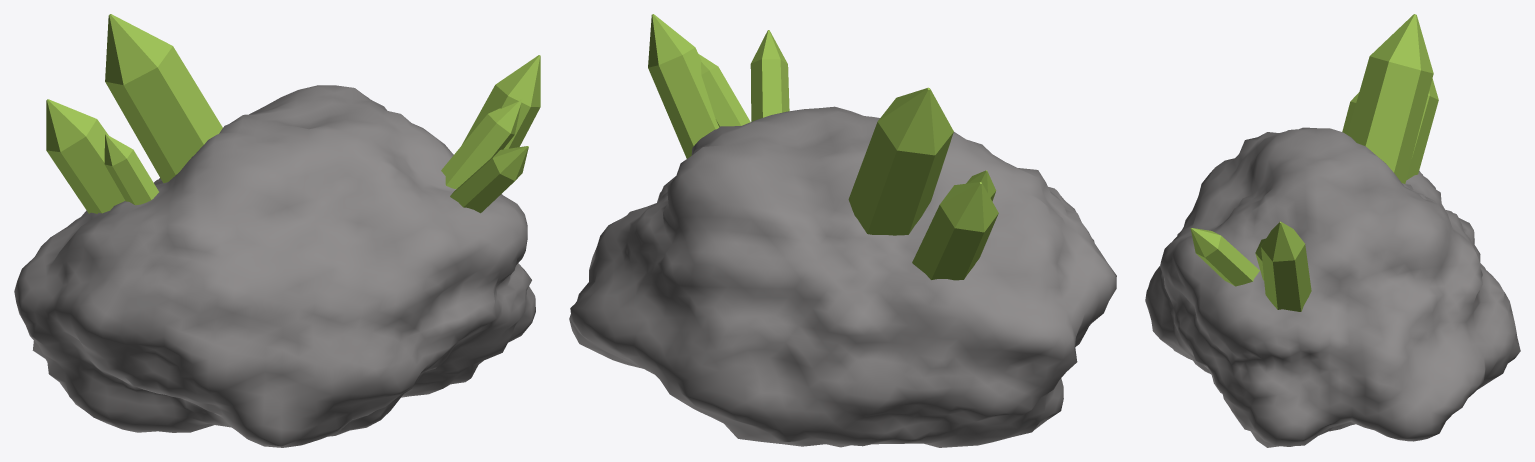
Rendered from olivine_surface.glb.
3 renders of one model, left to right at view 1: azimuth 30°, elevation 25°; view 2: azimuth 150°, elevation 25°; view 3: azimuth 270°, elevation 25°, orthographic. The views are drawn at different scales.
Parts seen in each view (by area): view 1: olivine_surface; view 2: olivine_surface; view 3: olivine_surface.
Boxes of the visible parts, x1,y1,x2,y2 form: olivine_surface: (14, 14, 540, 447); olivine_surface: (569, 14, 1116, 447); olivine_surface: (1145, 14, 1520, 447).
Size of the model in its own units: 0.9858 by 0.7829 by 0.7891.
